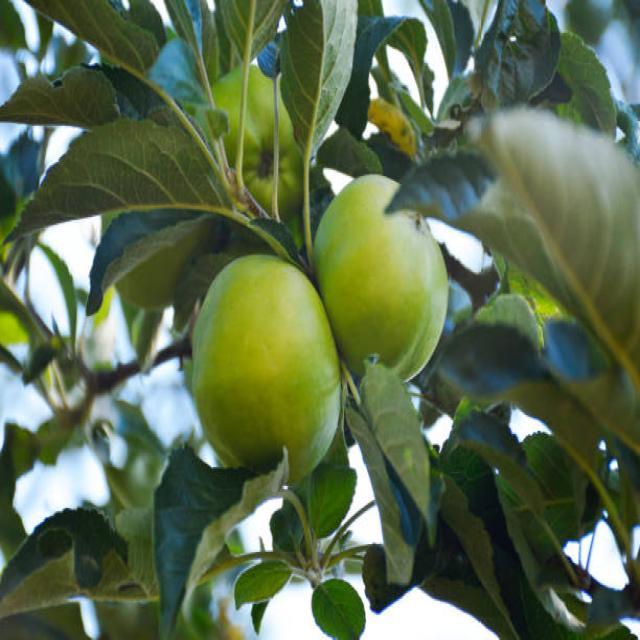Unripe: (189, 252, 341, 486)
